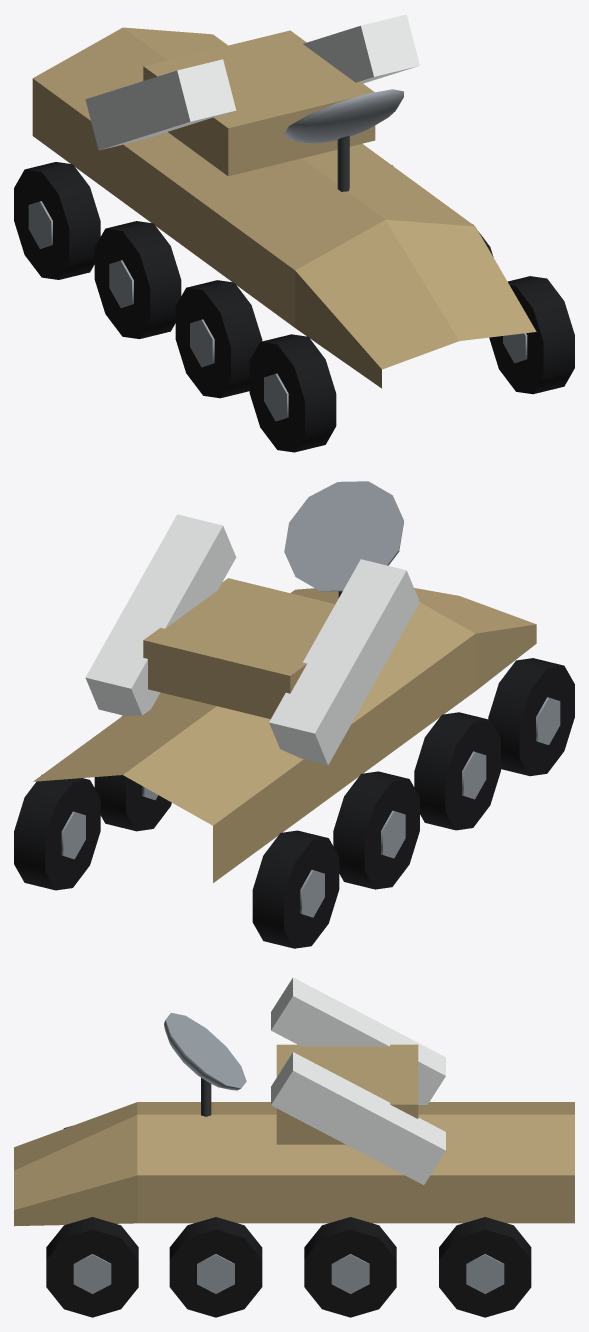
The model's file is veh_ground_aa_wheeled_a07.glb.
3 views of the same model, one above another, from view 1: azimuth 30°, elevation 25°; view 2: azimuth 150°, elevation 25°; view 3: azimuth 270°, elevation 25° (orthographic). The views are drawn at different scales.
Visible parts, largest first — view 1: body, turret, wheel_6, wheel_2, wheel_0, wheel_4, wheel_7, radar; view 2: turret, body, radar, wheel_0, wheel_4, wheel_2, wheel_1, wheel_6, wheel_3; view 3: body, turret, wheel_5, wheel_1, wheel_3, wheel_7, radar.
Boxes of the visible parts, x1,y1,x2,y2 form: body: (32,27,536,388); turret: (85,14,419,176); wheel_6: (249,334,336,452); wheel_2: (94,221,181,338); wheel_0: (14,162,100,279); wheel_4: (175,280,262,398); wheel_7: (489,276,574,394); radar: (284,89,403,191); turret: (85,514,419,765); body: (33,588,536,882); radar: (284,481,403,597); wheel_0: (252,830,339,948); wheel_4: (414,712,500,830); wheel_2: (333,771,419,889); wheel_1: (14,775,100,890); wheel_6: (488,658,574,776); wheel_3: (94,715,171,831); body: (14,1102,574,1226); turret: (271,977,445,1184); wheel_5: (169,1217,262,1317); wheel_1: (439,1217,531,1317); wheel_3: (304,1217,396,1317); wheel_7: (46,1217,138,1317); radar: (164,1012,246,1116).
Size of what is drawn, in the model's own units: 2.98 by 3.04 by 6.35.
